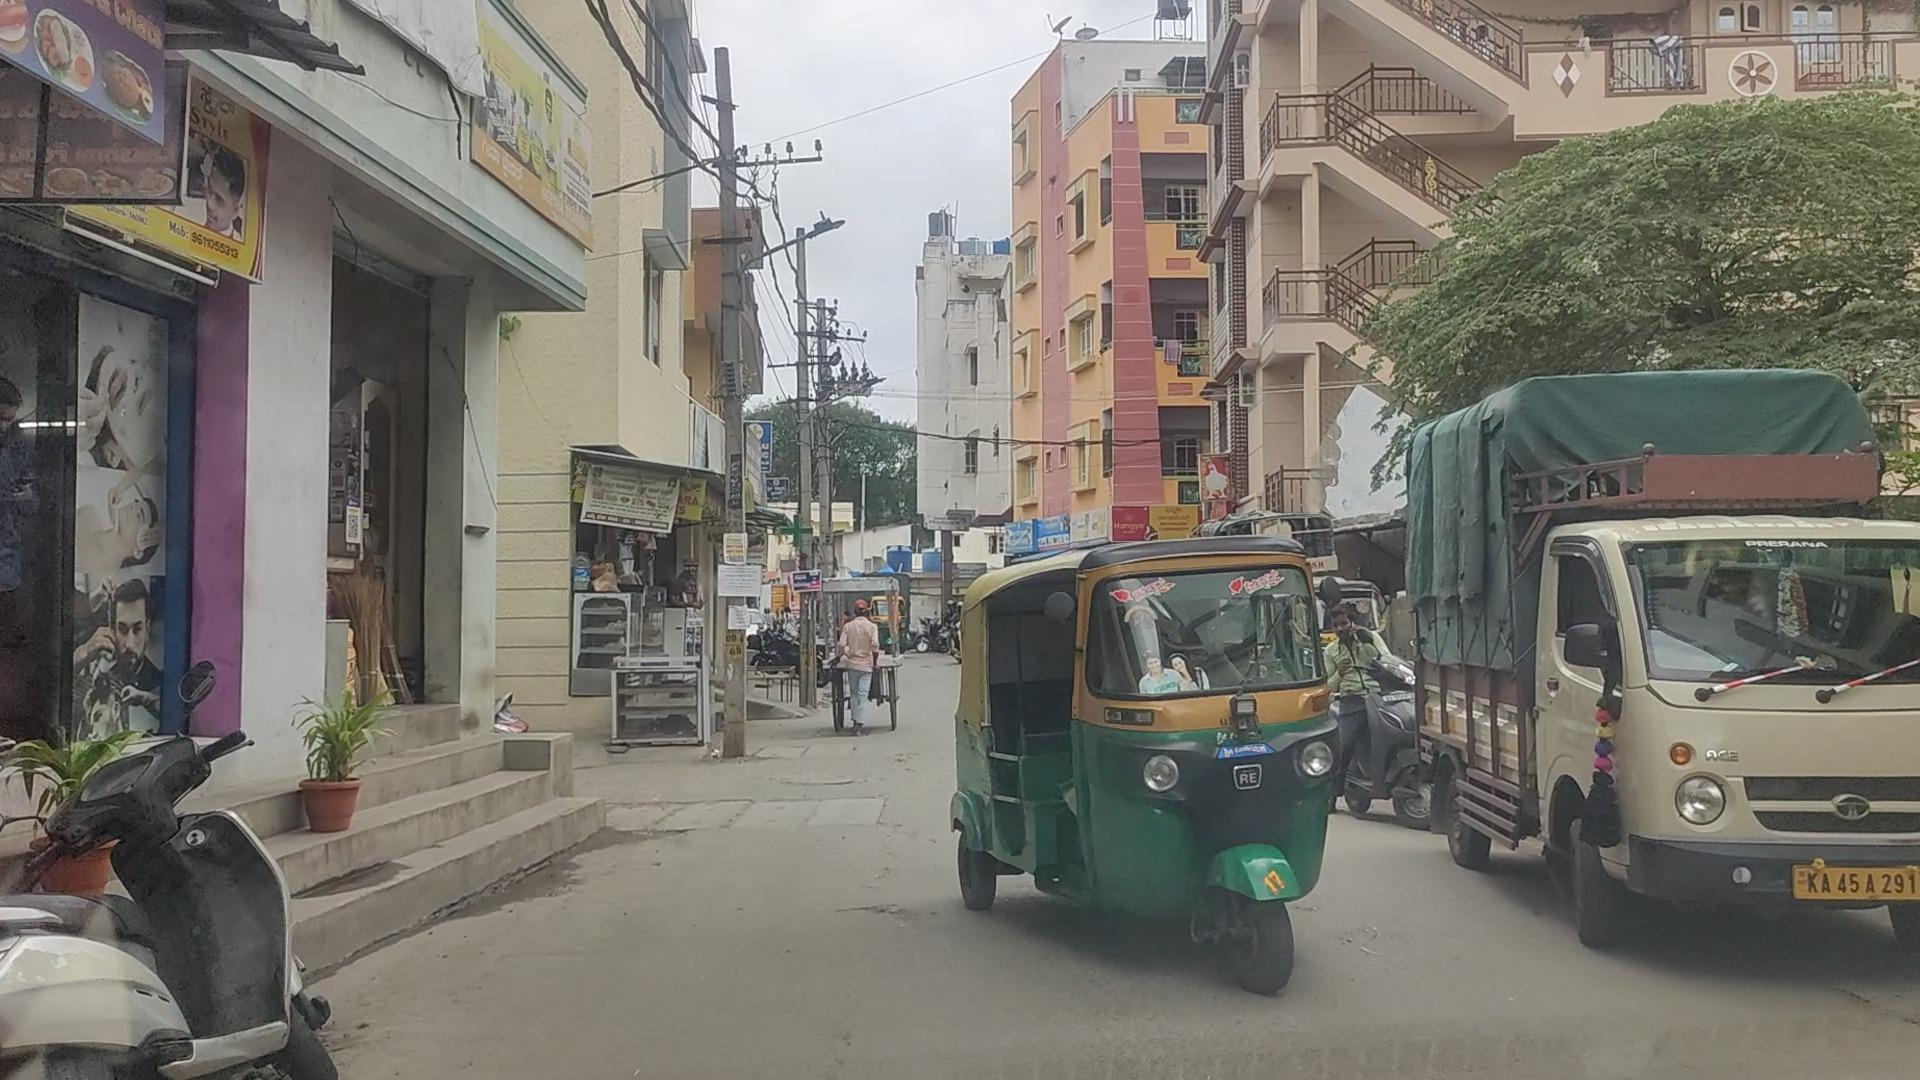HMV: (1371, 396, 1920, 910)
LMV: (961, 558, 1309, 981)
RoadDamages: (628, 785, 886, 840)
